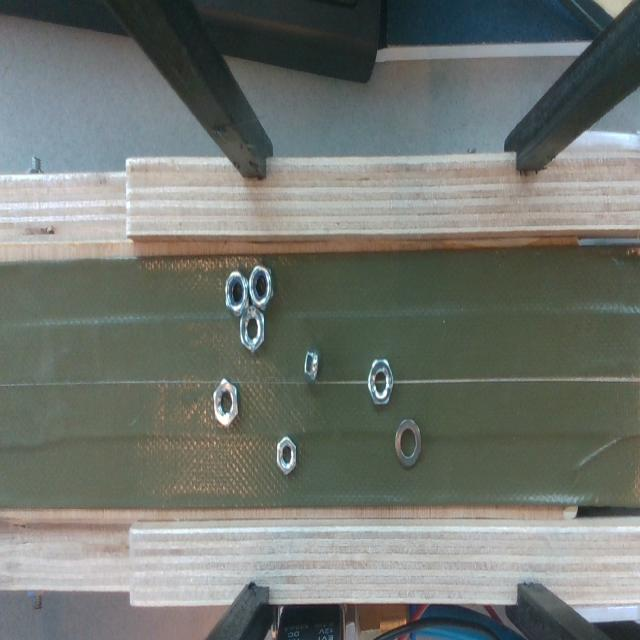Nut: (368, 359, 394, 404), (214, 378, 238, 426), (240, 307, 265, 352), (225, 271, 249, 316), (249, 264, 272, 310), (276, 435, 296, 475), (304, 352, 319, 383)
washer: (395, 419, 421, 466)
